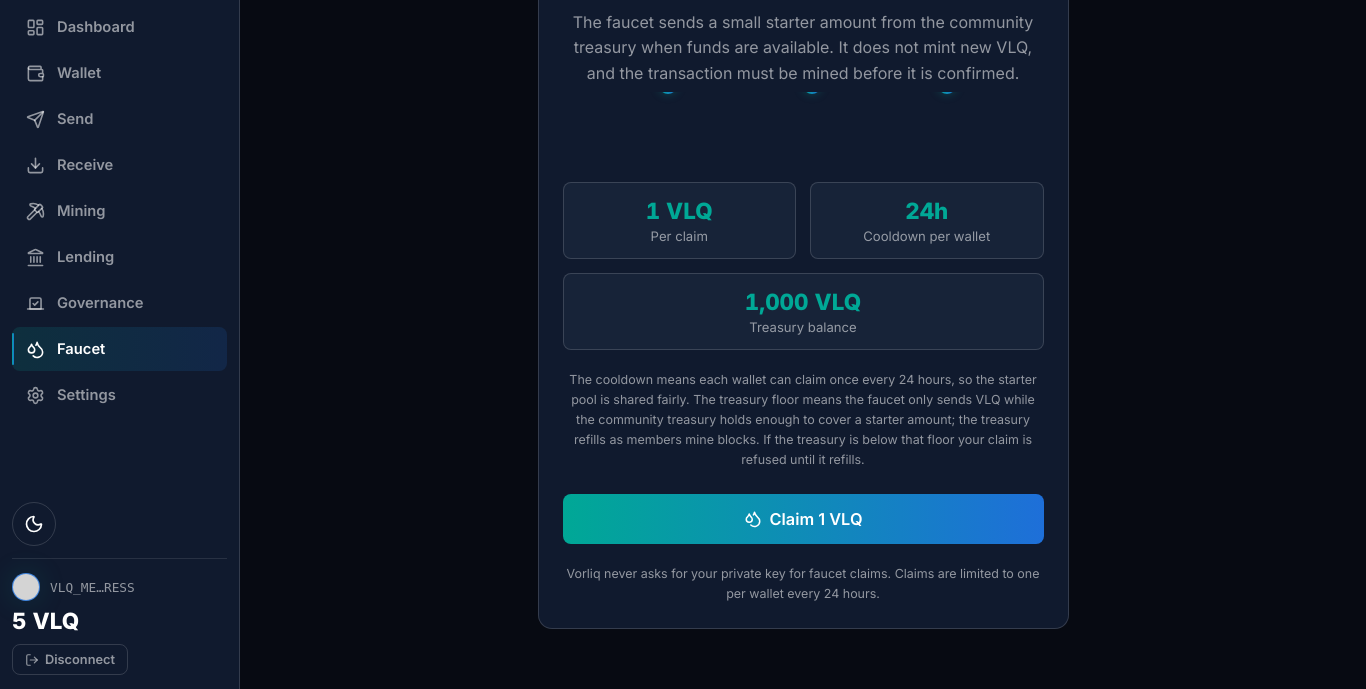
Scenario: a successful claim shows the submitted transaction link
This screenshot has width=1366, height=689.
(page scrolled)
Click the button "Claim 1 VLQ": click(803, 519) [562, 494, 1044, 544]
(page scrolled)
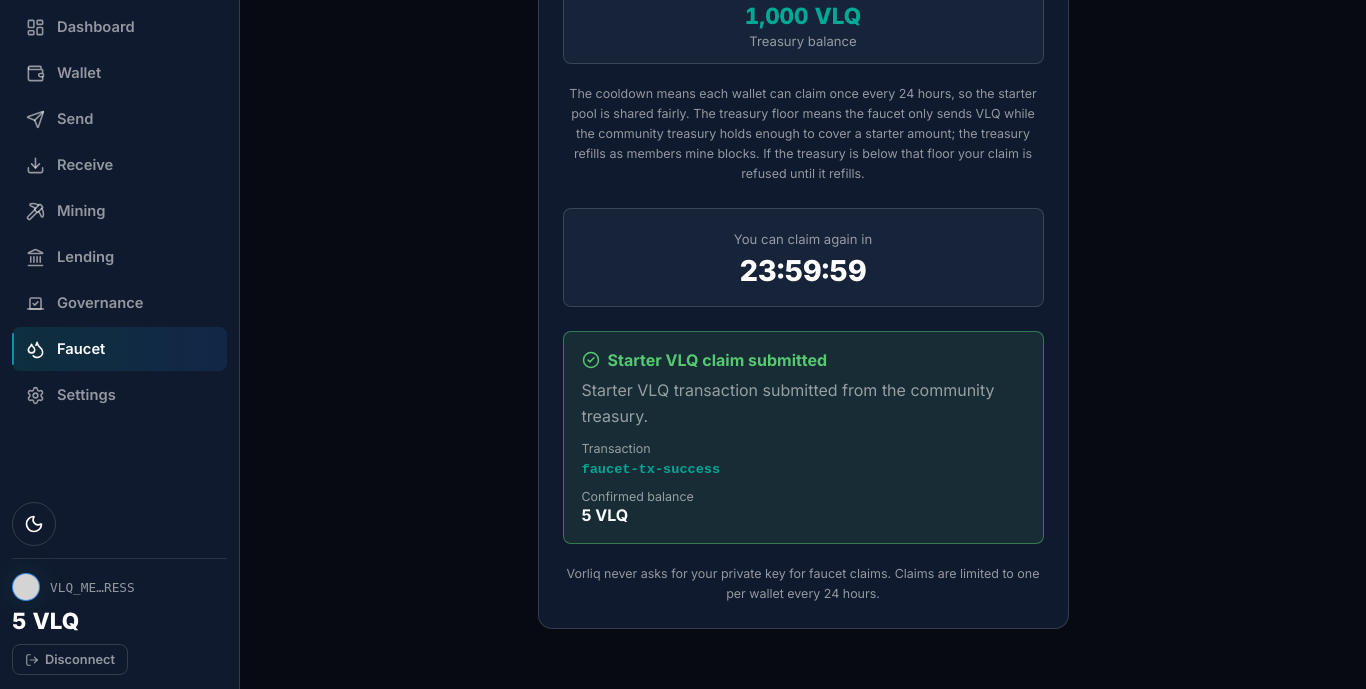
Now the text "Starter VLQ claim submitted" is shown, box [582, 350, 827, 370]
